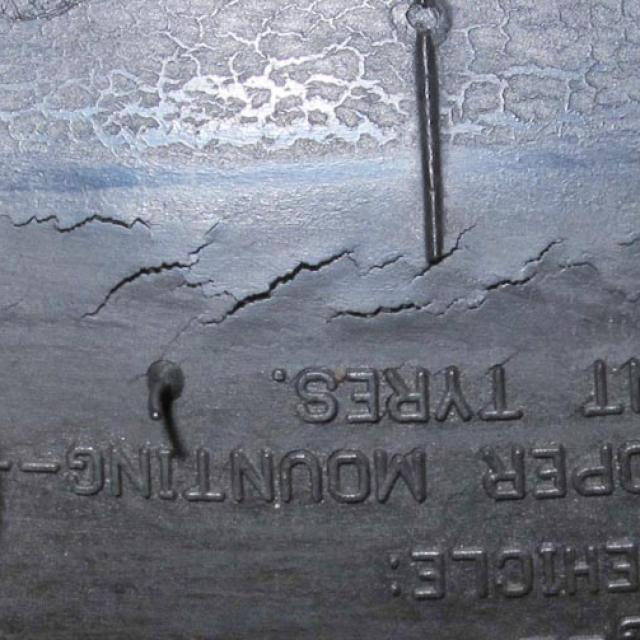Cracks: (0, 124, 640, 376)
